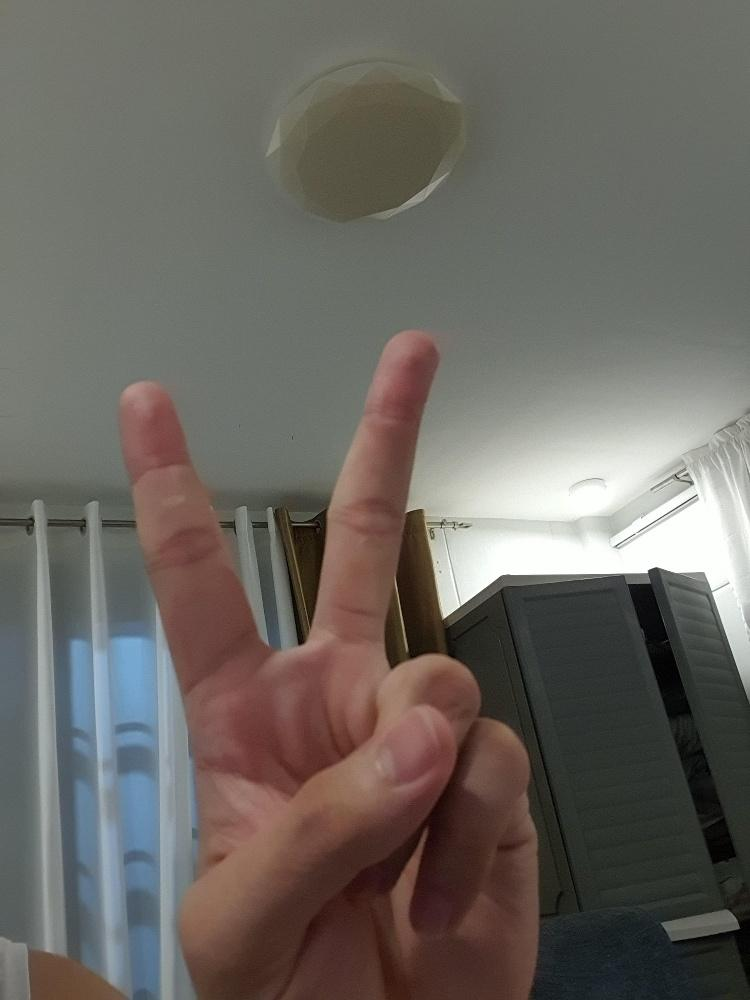v: (111, 323, 547, 999)
